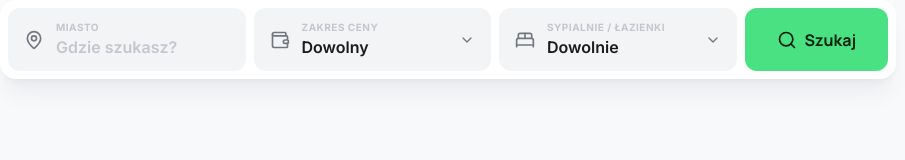
Test: HeroSearch (landing) › shows city suggestions when typing
The width and height of the screenshot is (905, 160).
In the field with placeholder "Gdzie szukasz?": [143, 47] box [56,35,230,59], type "War"
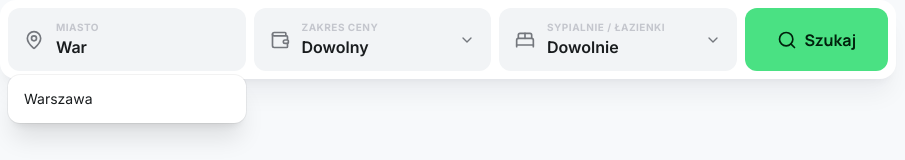
Now the list is shown, box [8,75,246,123]
Now the button "Warszawa" is shown, box [8,79,246,119]
